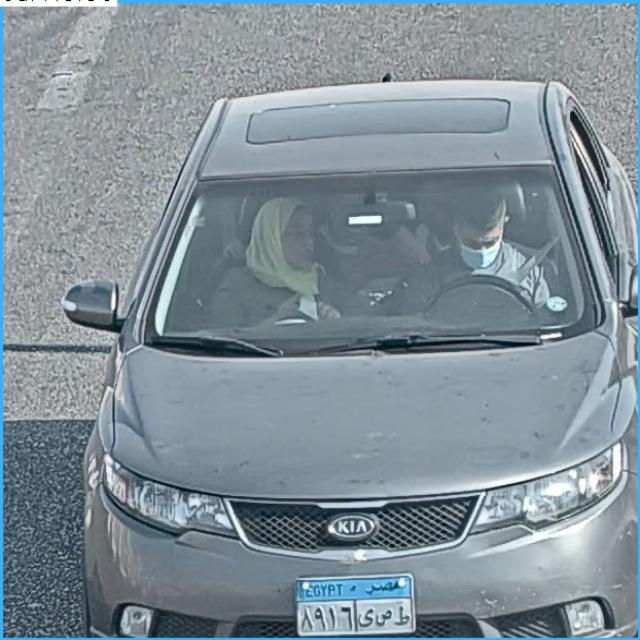windshield: (151, 172, 598, 331)
